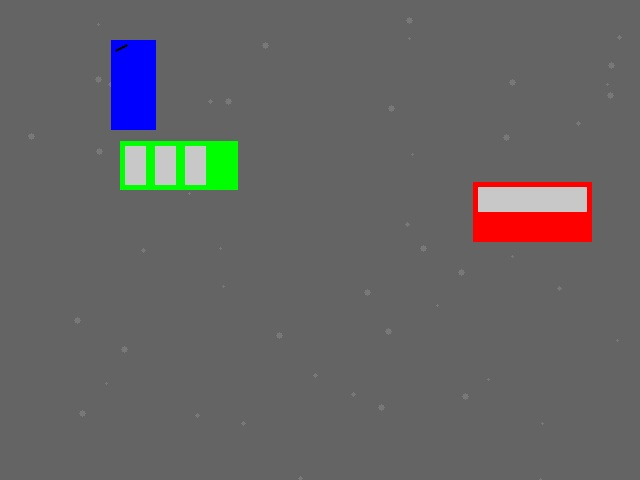bus: (120, 141, 237, 189)
car: (473, 182, 591, 241)
motorcycle: (111, 40, 155, 129)
